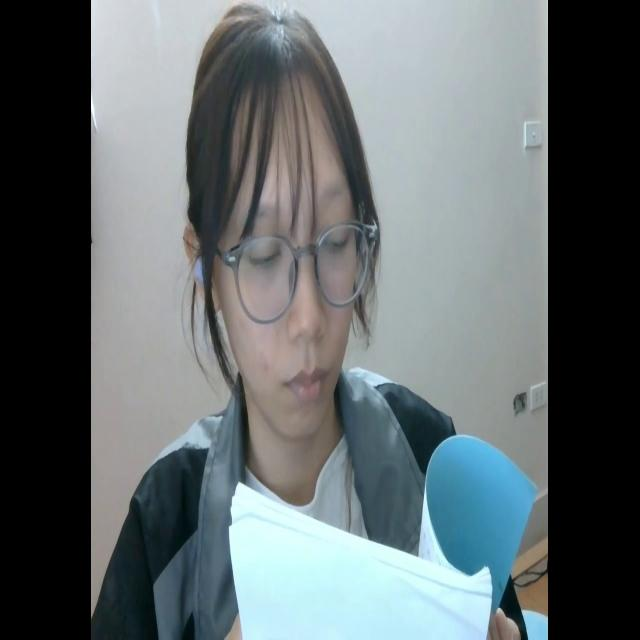book: (228, 434, 537, 640)
student: (109, 1, 526, 640)
